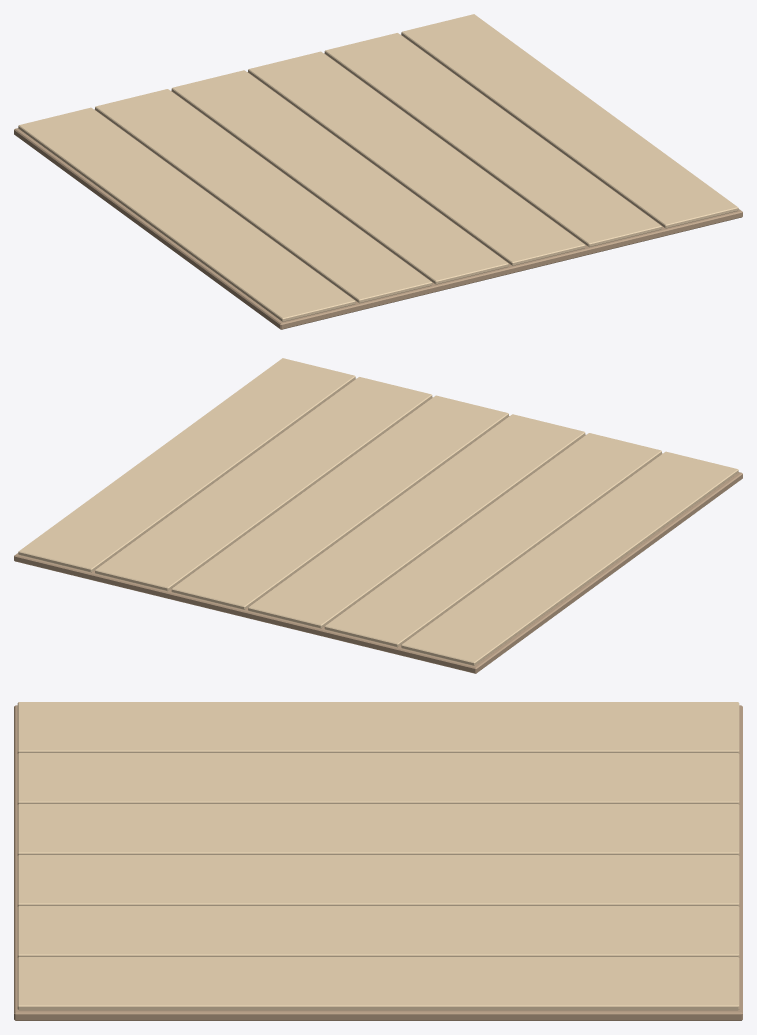
File: jelly-friends-playroom-floor-tile-oak-2m-7d60efa9__27628.glb
3 views of the same model, one above another, from view 1: azimuth 30°, elevation 25°; view 2: azimuth 150°, elevation 25°; view 3: azimuth 270°, elevation 25° (orthographic). The views are drawn at different scales.
Parts seen in each view (by area): view 1: floor-tile-oak-2m; view 2: floor-tile-oak-2m; view 3: floor-tile-oak-2m.
Part boxes in pixels (box(x1,y1,x2,y2)): floor-tile-oak-2m: box(14, 14, 742, 329); floor-tile-oak-2m: box(14, 358, 742, 673); floor-tile-oak-2m: box(14, 702, 742, 1020).
Bounding box in the file's own units: 2 × 0.0419 × 2.
